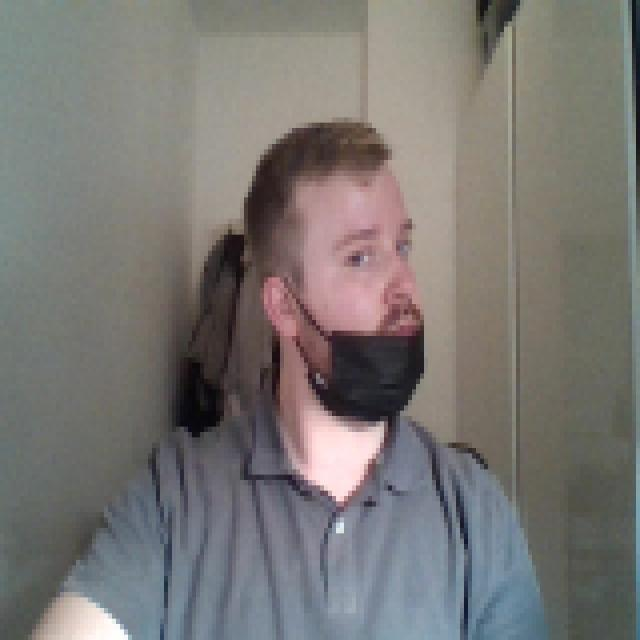hairnet: (248, 251, 440, 421)
